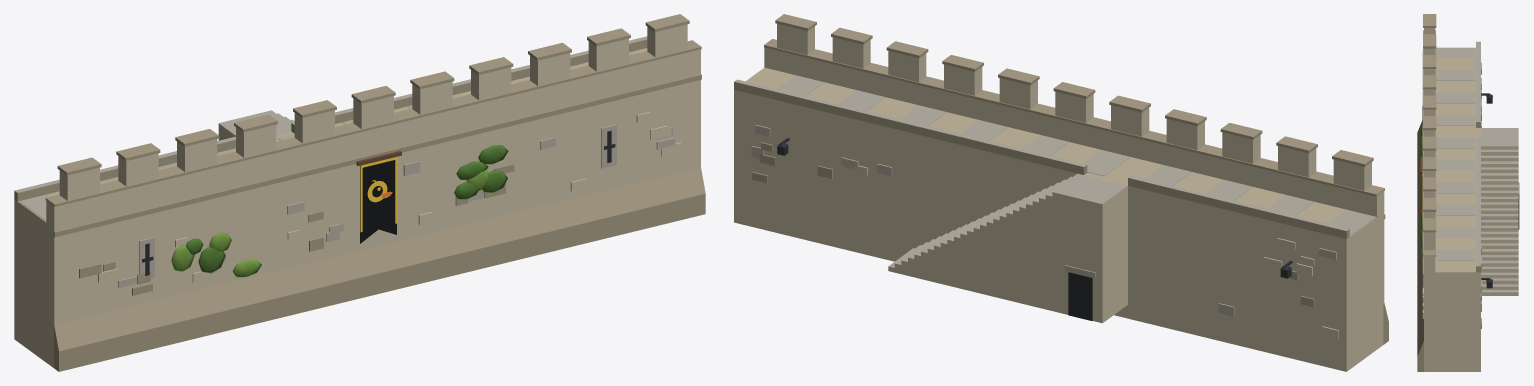
File: castle_wall.glb
3 renders of one model, left to right at view 1: azimuth 30°, elevation 25°; view 2: azimuth 150°, elevation 25°; view 3: azimuth 270°, elevation 25°, orthographic. The views are drawn at different scales.
Visible parts, largest first — view 1: LOD0; view 2: LOD0; view 3: LOD0.
Boxes of the visible parts, left/top/right/bottom form: LOD0: left=14, top=14, right=705, bottom=371; LOD0: left=734, top=14, right=1388, bottom=371; LOD0: left=1417, top=14, right=1519, bottom=371.
Bounding box in the file's own units: 28 × 8 × 5.4.
Materials: 1 (1 with a texture image).
